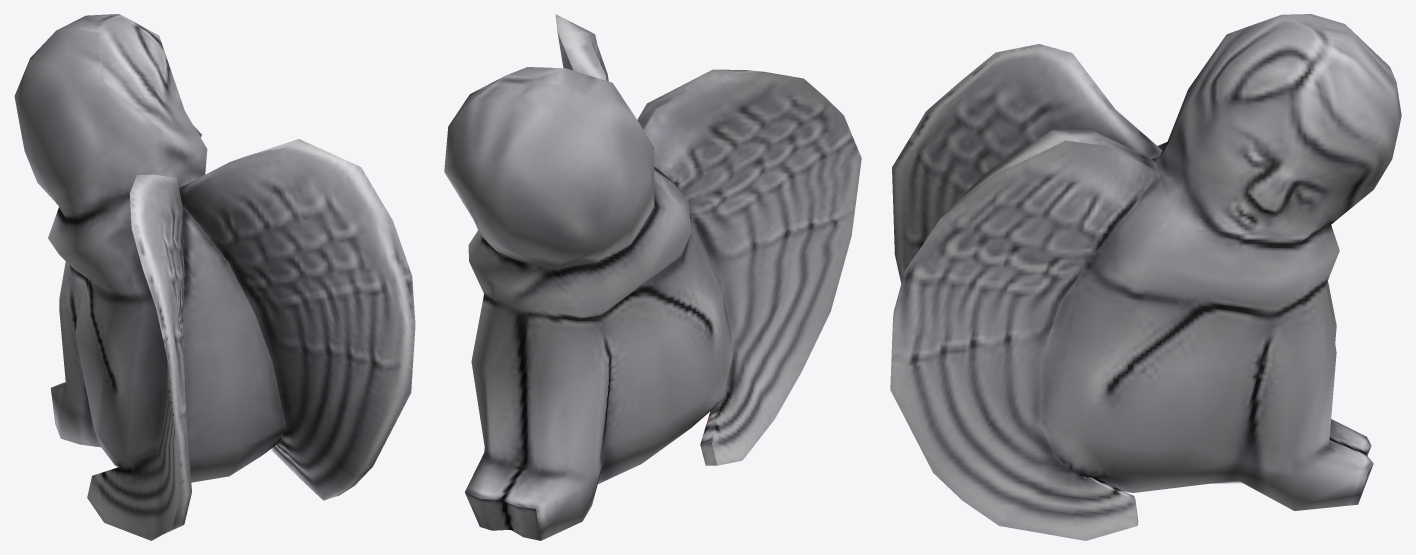
Rendered from StatueB.FBX.
3 renders of one model, left to right at view 1: azimuth 30°, elevation 25°; view 2: azimuth 150°, elevation 25°; view 3: azimuth 270°, elevation 25°, orthographic. The views are drawn at different scales.
Visible parts, largest first — view 1: StatueB; view 2: StatueB; view 3: StatueB.
Part boxes in pixels (bbox=[...]): StatueB: bbox=[14, 14, 415, 540]; StatueB: bbox=[444, 14, 861, 540]; StatueB: bbox=[890, 14, 1401, 540].
Size of the model in its own units: 16.2 by 25.72 by 25.78.
1 material, 1 textured.
